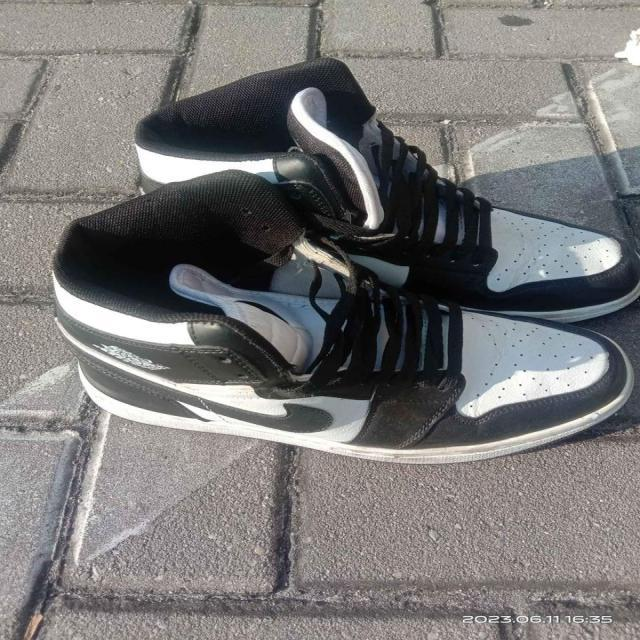nike fake jordan 1: (46, 166, 640, 465), (129, 56, 638, 324)
